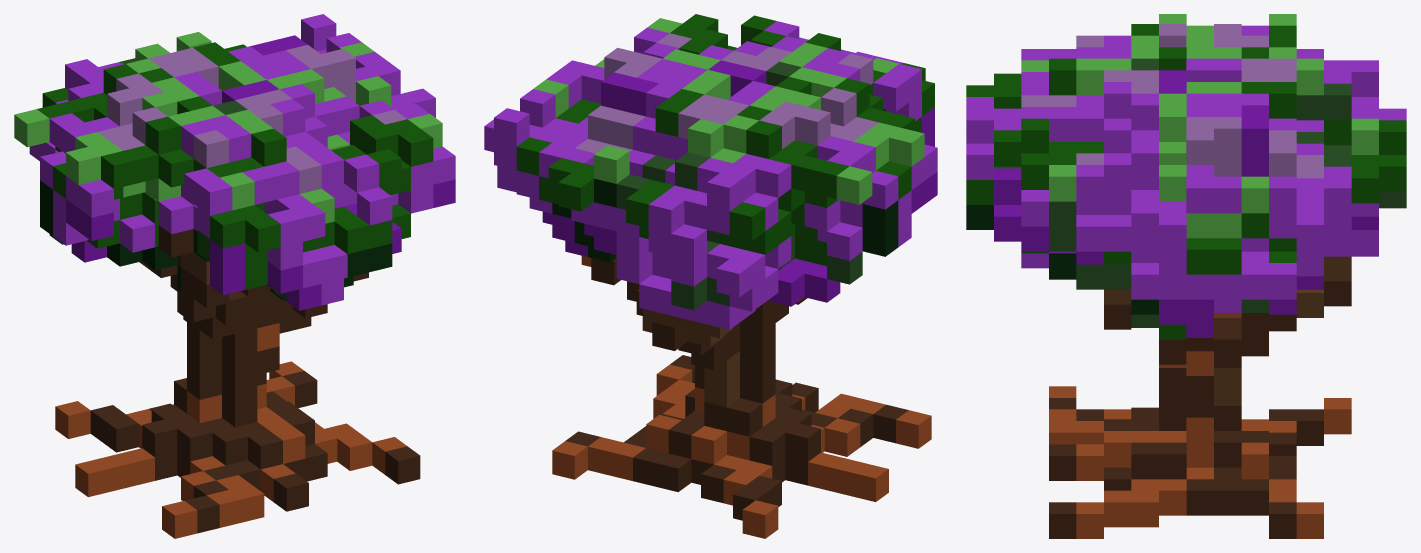
The model's file is Lyander_Anthony_Hernández_Acosta_fase_3.obj.
The picture shows the model from 3 angles, left to right: view 1: azimuth 30°, elevation 25°; view 2: azimuth 150°, elevation 25°; view 3: azimuth 270°, elevation 25°; orthographic projection. The views are drawn at different scales.
Visible parts, largest first — view 1: Lyander_Anthony_Hernández_Acosta_fase_3; view 2: Lyander_Anthony_Hernández_Acosta_fase_3; view 3: Lyander_Anthony_Hernández_Acosta_fase_3.
Boxes of the visible parts, left/top/right/bottom form: Lyander_Anthony_Hernández_Acosta_fase_3: left=14, top=14, right=455, bottom=538; Lyander_Anthony_Hernández_Acosta_fase_3: left=484, top=14, right=937, bottom=538; Lyander_Anthony_Hernández_Acosta_fase_3: left=966, top=14, right=1406, bottom=538.
Bounding box in the file's own units: 16 × 16 × 16.
1 material, 1 textured.
